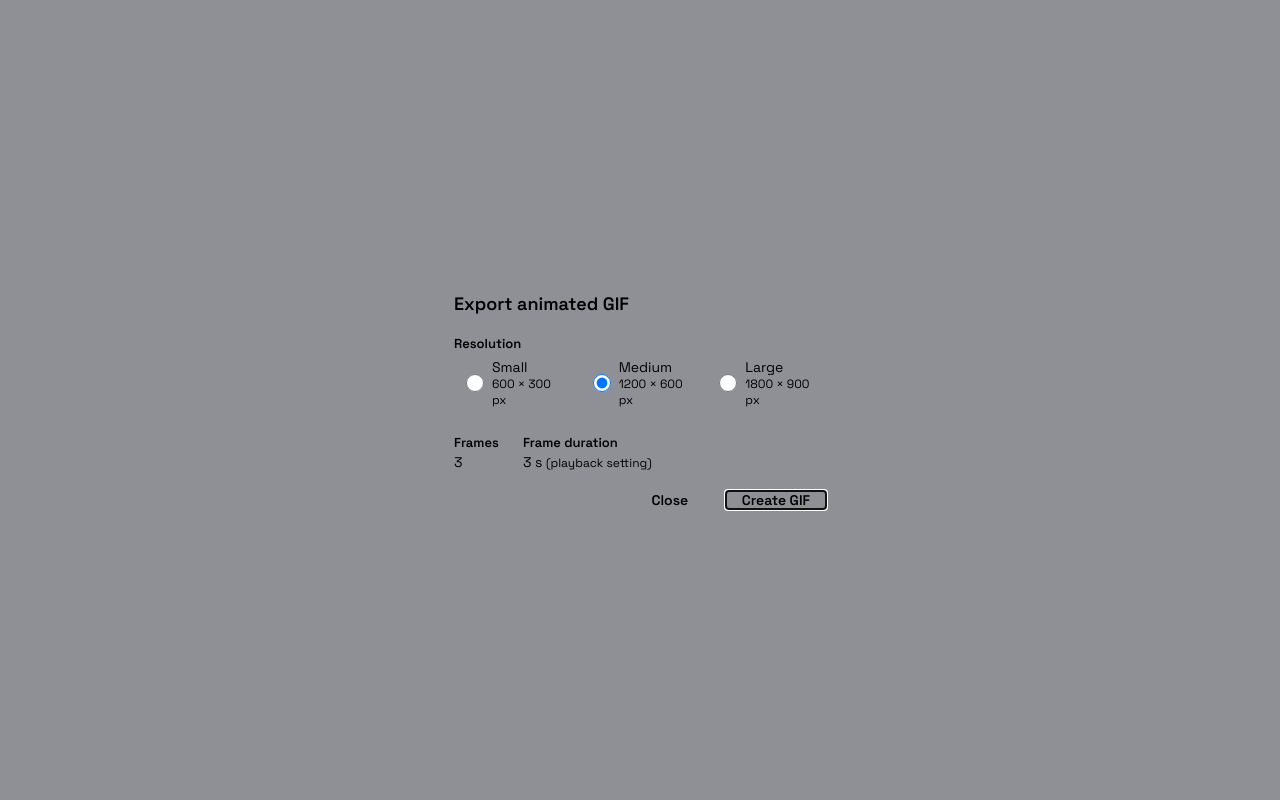
Scenario: ExportAnimationDialog › when the GIF is ready › names the file and offers Download, focused
Click the button "Create GIF" at (776, 500), box [726,490,826,508]
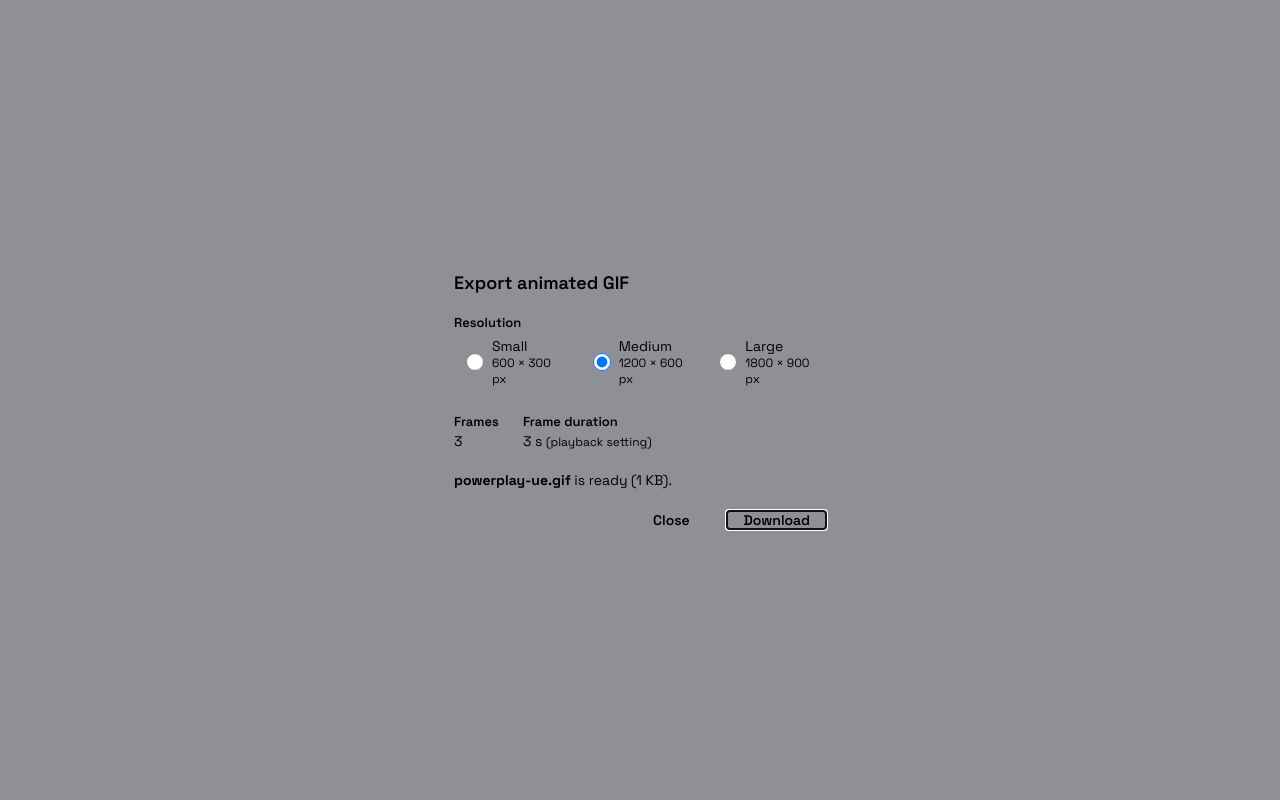
Check: the message shows "powerplay-ue.gif is ready", box [454,471,672,489]
